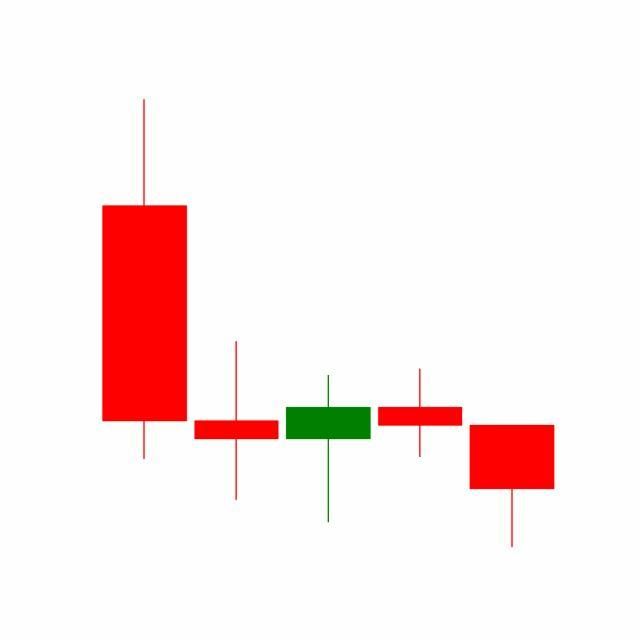Spinning Top: (374, 367, 468, 459)
